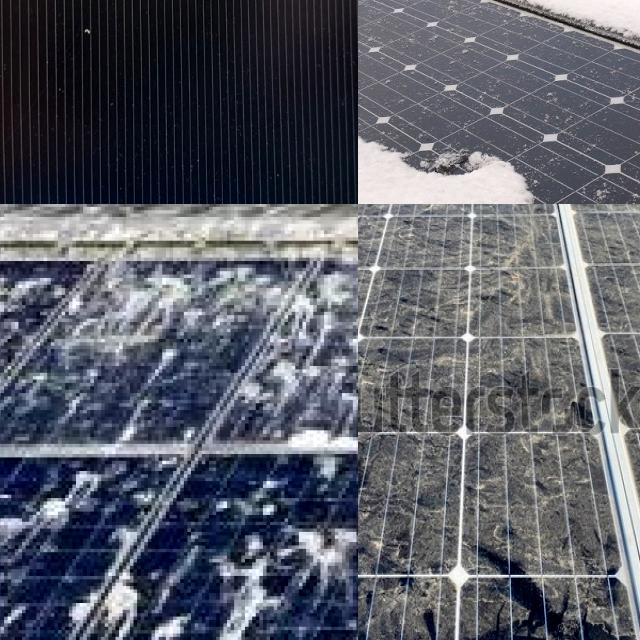bird: (1, 257, 274, 393), (63, 521, 165, 640), (276, 360, 358, 456), (284, 514, 358, 581), (313, 256, 358, 324), (0, 512, 34, 579)
dust: (464, 442, 600, 568), (358, 426, 460, 559), (372, 272, 570, 328), (468, 570, 625, 640), (358, 204, 545, 262), (358, 430, 431, 569), (358, 335, 461, 413), (488, 329, 578, 417), (358, 259, 438, 337), (358, 335, 418, 418), (358, 204, 536, 231), (358, 587, 448, 640), (358, 582, 418, 640), (588, 204, 640, 257), (358, 328, 383, 416), (358, 204, 419, 239), (598, 274, 640, 323)
panel: (358, 0, 453, 171), (358, 113, 449, 203), (479, 0, 609, 61), (358, 9, 408, 140), (453, 142, 549, 204), (358, 0, 465, 54), (548, 0, 628, 66), (434, 0, 529, 41), (358, 0, 422, 39), (478, 0, 556, 29), (358, 0, 417, 35), (358, 0, 412, 35), (358, 0, 390, 40), (358, 0, 388, 38), (561, 0, 605, 24), (358, 0, 389, 23), (358, 0, 381, 31), (358, 0, 400, 15), (426, 0, 480, 11), (358, 0, 397, 13)
shadow: (97, 0, 358, 89)
